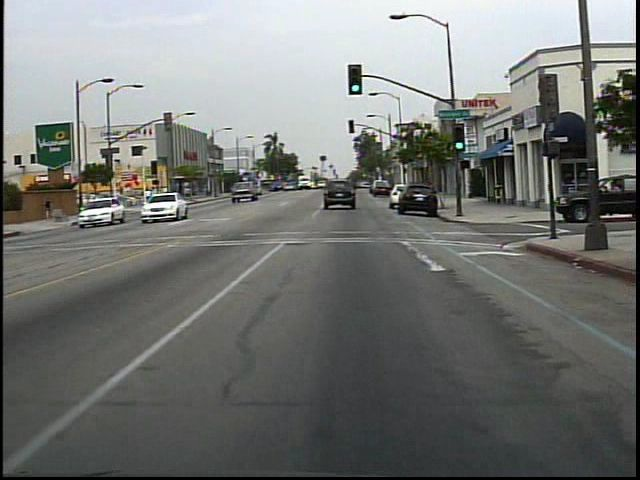person: (41, 195, 61, 223), (143, 185, 155, 204)
